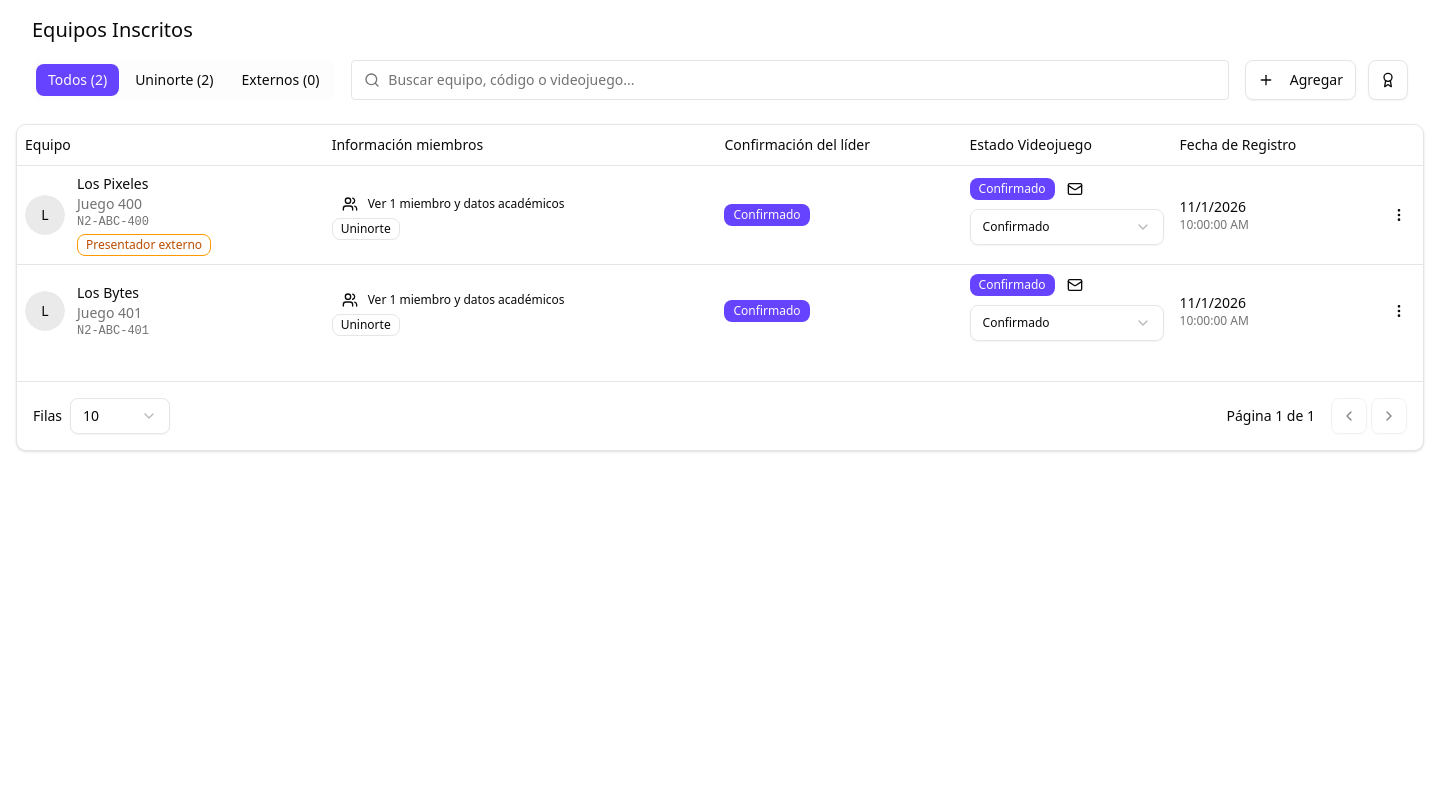
Test: Equipos inscritos: presentador externo (ARK-210 / HU-39) › el diálogo de certificados de participación no ofrece equipos presentadores externos
Step 1. Click the button named "Enviar certificados" → [1388, 80], box [1368, 60, 1408, 100]
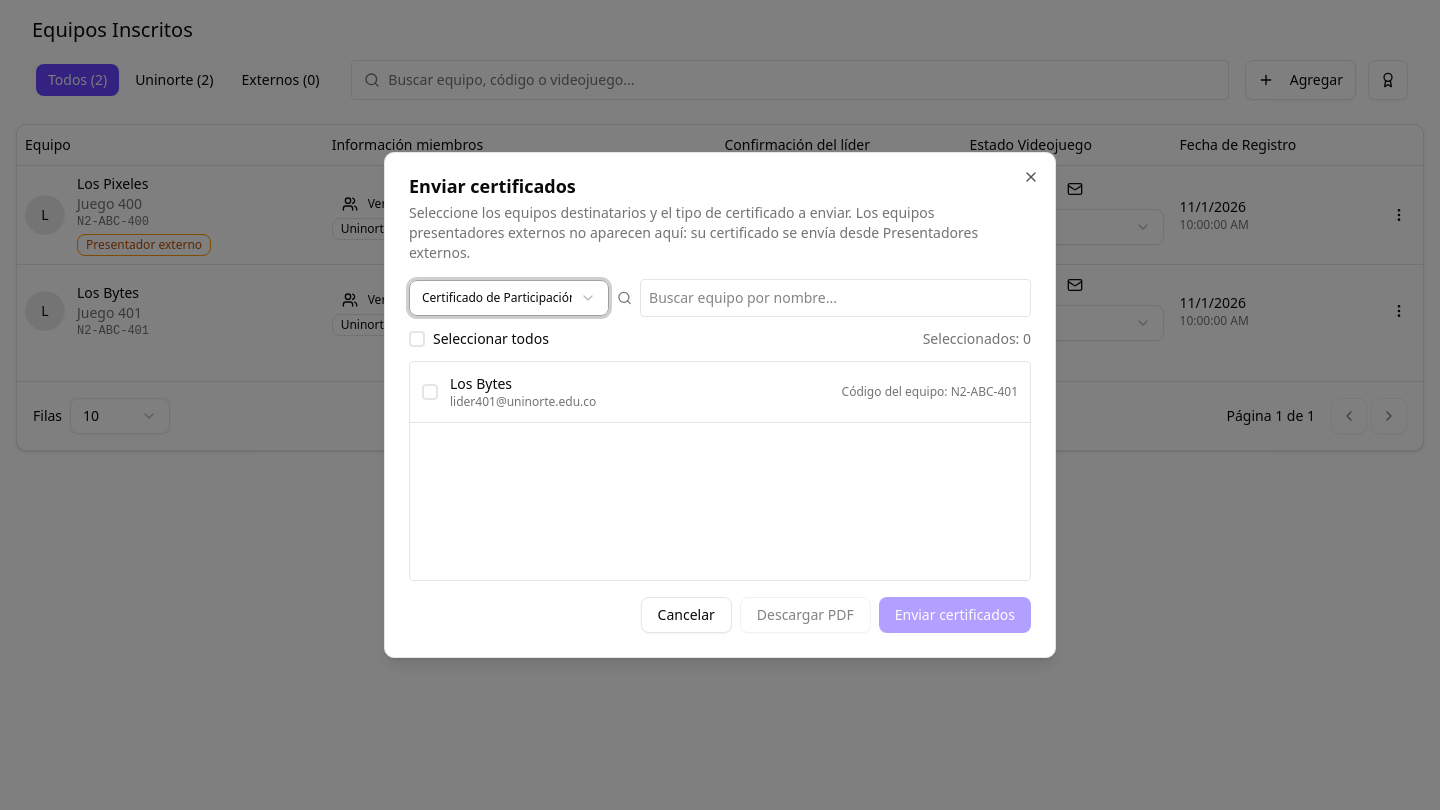
Expected: the text "Los Bytes" is shown, [450, 374, 512, 393]
